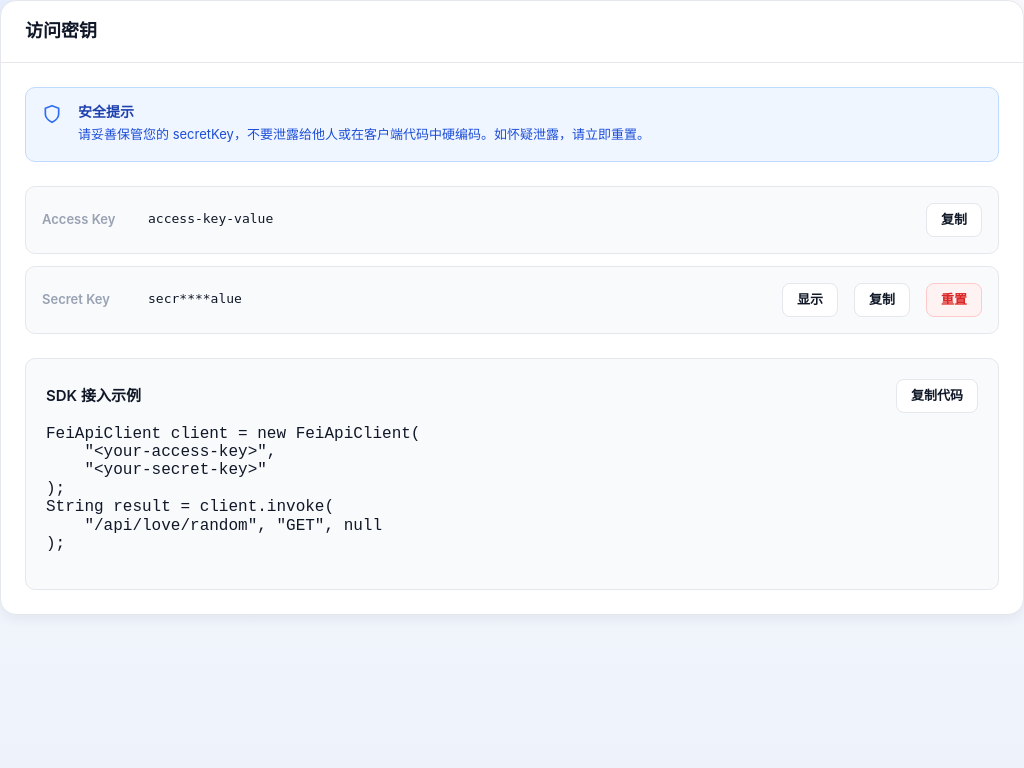
it: AccessKeysView › 重置成功后展示新密钥并提示旧密钥失效
The width and height of the screenshot is (1024, 768).
// Secret Key 卡片的第 3 个按钮为重置入口
Click the button "重置" at (954, 300), box [926,283,982,317]
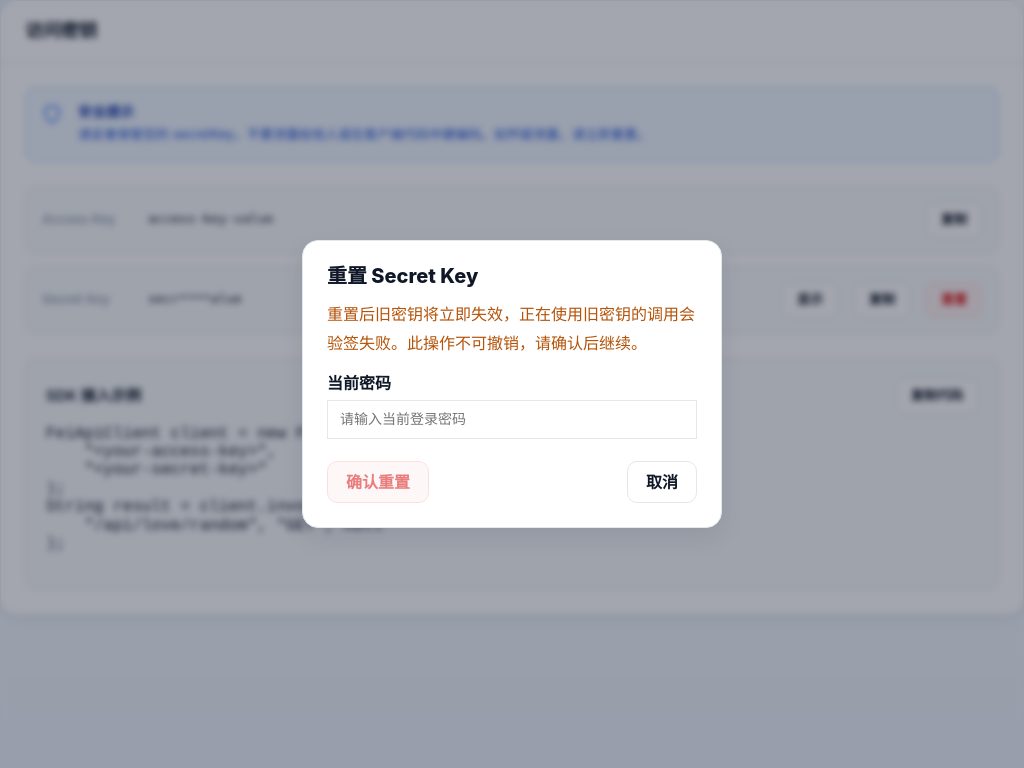
Check: the element with class "fei-reset-dialog" is shown, box [302,240,722,528]
Type "password123" into the password field with id "reset-secret-password" at (512, 419), box [327,400,697,438]
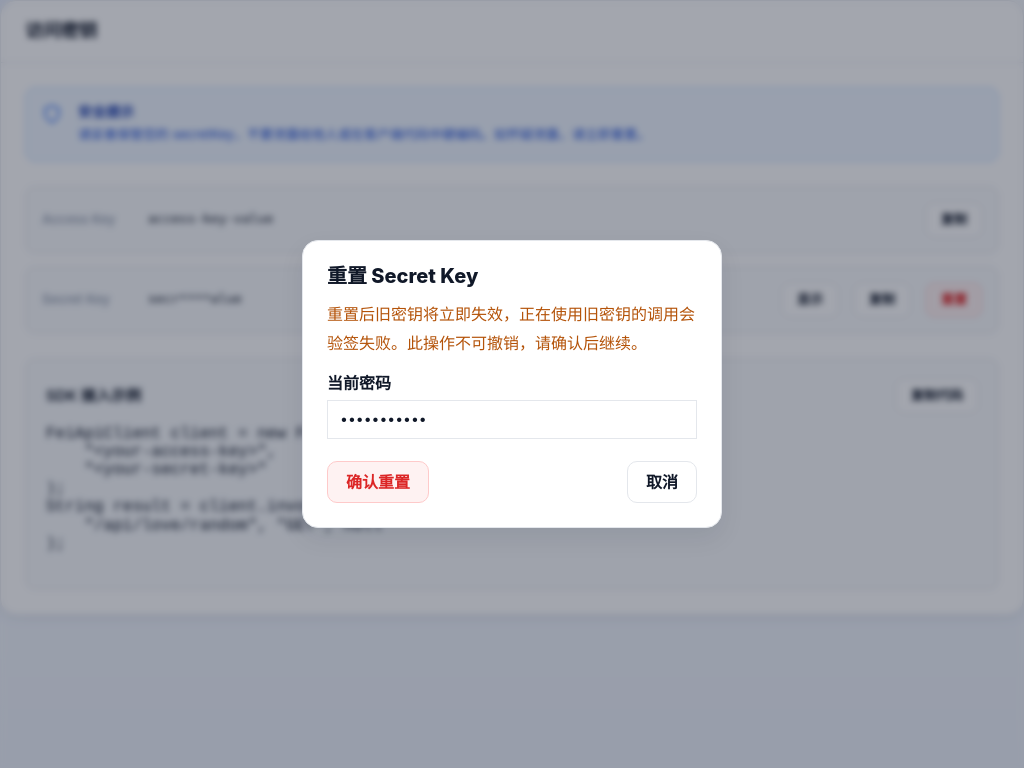
Click the button "确认重置" at (378, 482), box [327,460,429,502]
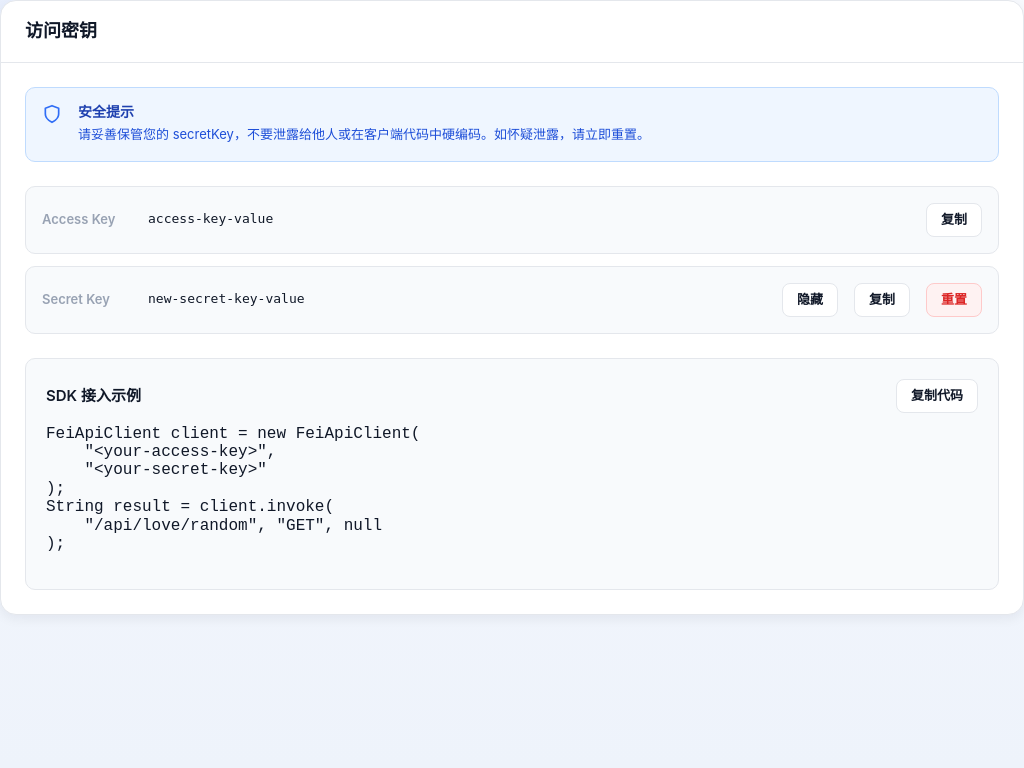
Check: the text "new-secret-key-value" is shown, box [148,291,304,306]
